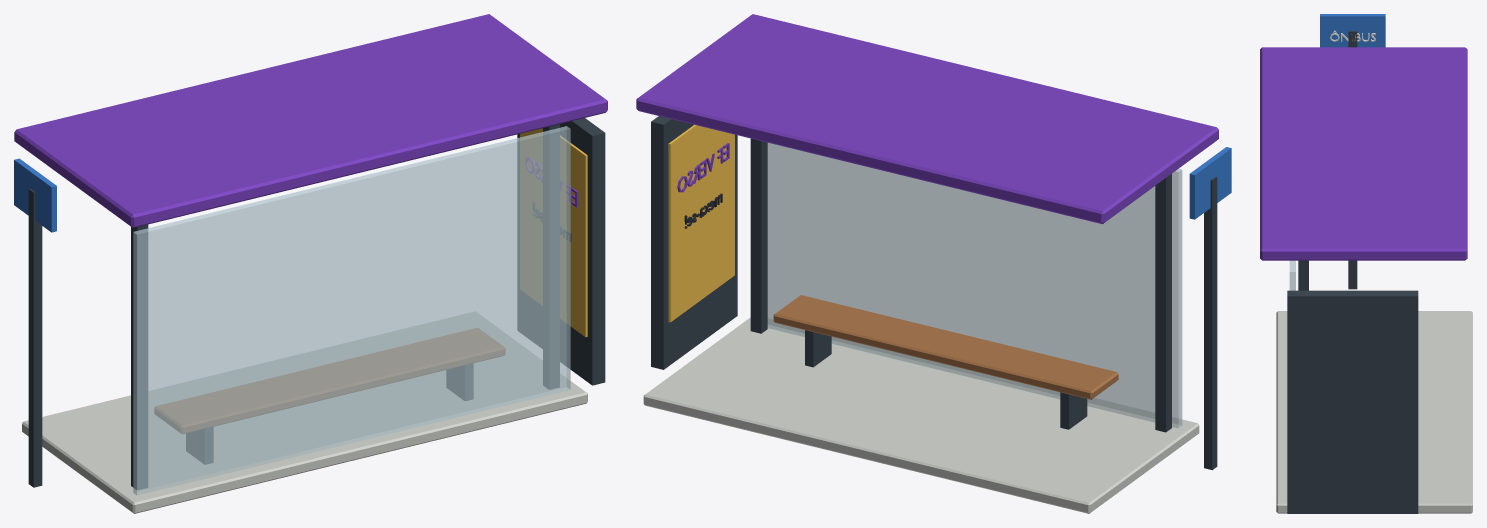
Rendered from ponto-onibus.glb.
3 renders of one model, left to right at view 1: azimuth 30°, elevation 25°; view 2: azimuth 150°, elevation 25°; view 3: azimuth 270°, elevation 25°, orthographic. The views are drawn at different scales.
Visible parts, largest first — view 1: ponto-onibus; view 2: ponto-onibus; view 3: ponto-onibus.
Boxes of the visible parts, bbox=[...] form: ponto-onibus: bbox=[14, 14, 607, 513]; ponto-onibus: bbox=[636, 14, 1231, 513]; ponto-onibus: bbox=[1260, 14, 1472, 513].
Bounding box in the file's own units: 4.95 × 2.85 × 1.95.
